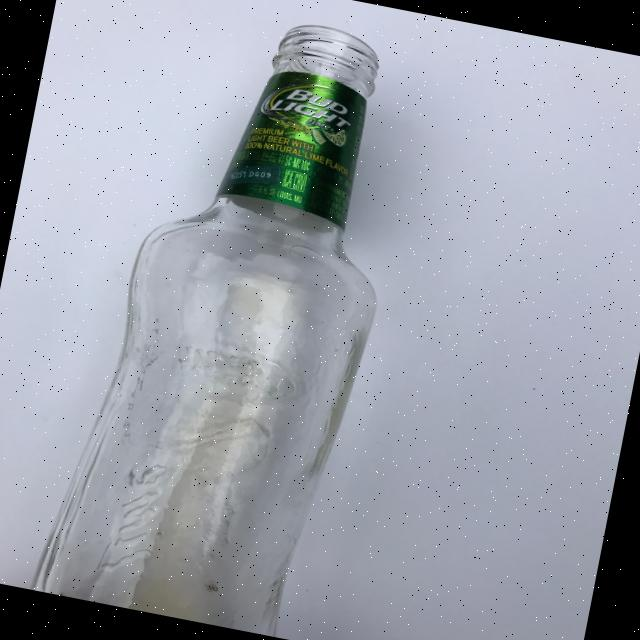glass: (32, 0, 427, 639)
